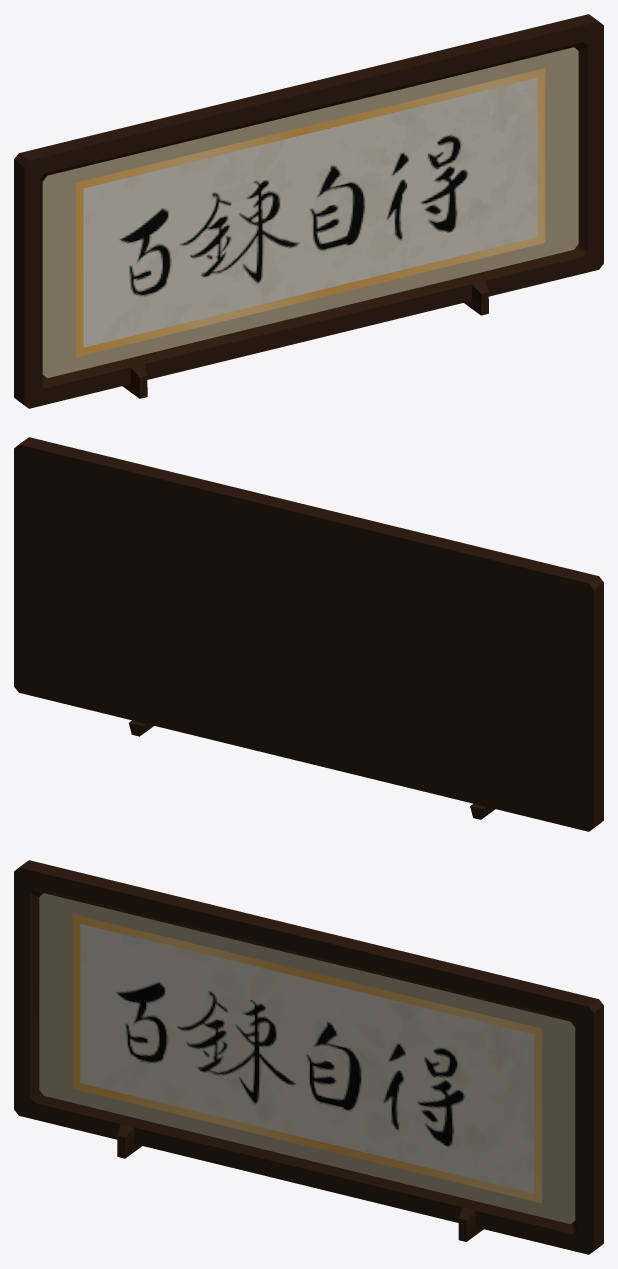
File: Prop_Dojo_Frame_H.fbx
3 renders of one model, top to bottom at view 1: azimuth 30°, elevation 25°; view 2: azimuth 150°, elevation 25°; view 3: azimuth 330°, elevation 25°, orthographic.
Parts seen in each view (by area): view 1: Prop_Dojo_Frame_H; view 2: Prop_Dojo_Frame_H; view 3: Prop_Dojo_Frame_H.
Part boxes in pixels (x1=…): Prop_Dojo_Frame_H: x1=14, y1=14, x2=603, y2=408; Prop_Dojo_Frame_H: x1=14, y1=437, x2=603, y2=831; Prop_Dojo_Frame_H: x1=14, y1=860, x2=603, y2=1254.
Size of the model in its own units: 197 by 84.19 by 11.6.
